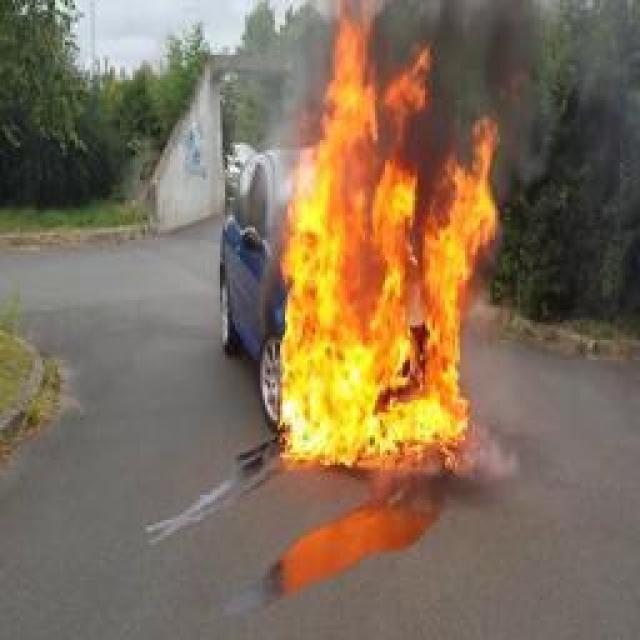Fire: (280, 0, 500, 462)
